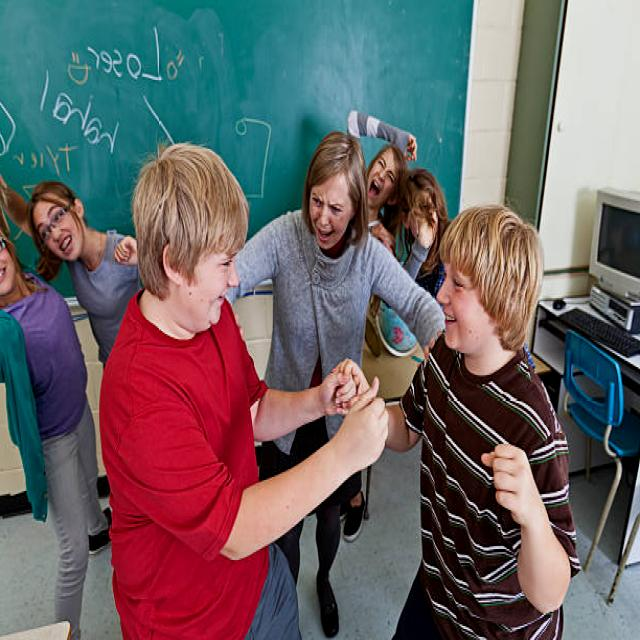fight: (111, 141, 556, 640)
